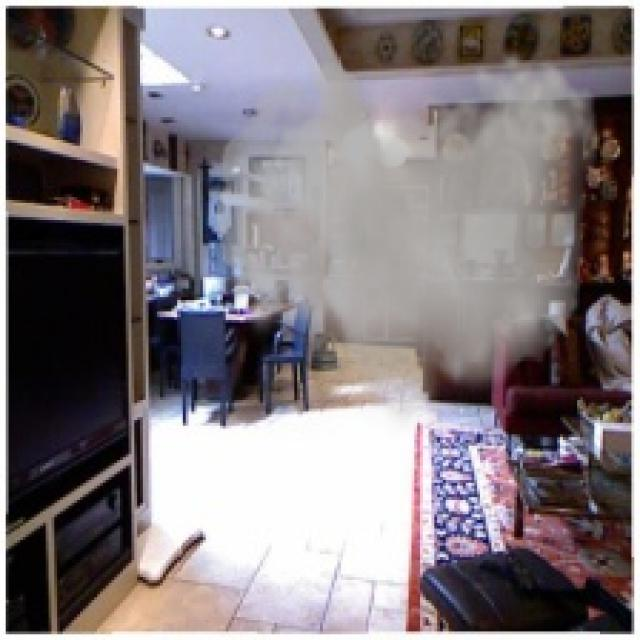smoke: (217, 49, 600, 440)
